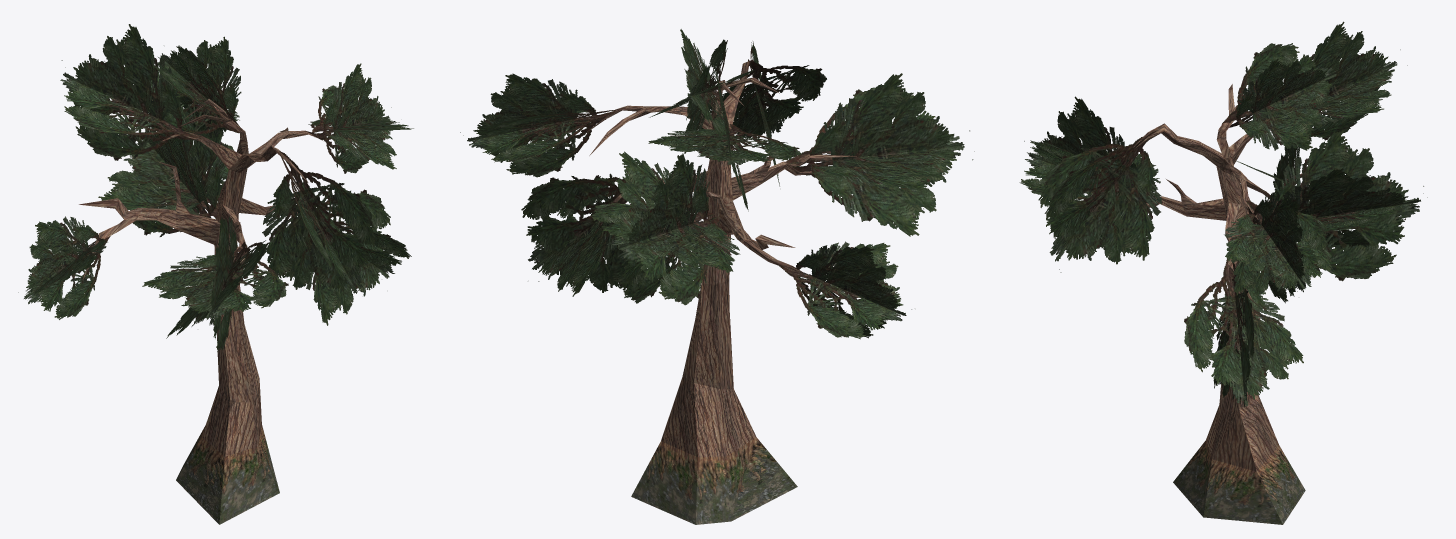
File: C1SNSCTPNB.obj
3 renders of one model, left to right at view 1: azimuth 30°, elevation 25°; view 2: azimuth 150°, elevation 25°; view 3: azimuth 270°, elevation 25°, orthographic. The views are drawn at different scales.
Parts seen in each view (by area): view 1: Node 0; view 2: Node 0; view 3: Node 0.
Boxes of the visible parts, x1,y1,x2,y2 form: Node 0: [18, 24, 413, 524]; Node 0: [460, 29, 974, 524]; Node 0: [1019, 21, 1427, 524].
Bounding box in the file's own units: 15.52 × 16.66 × 13.77.
